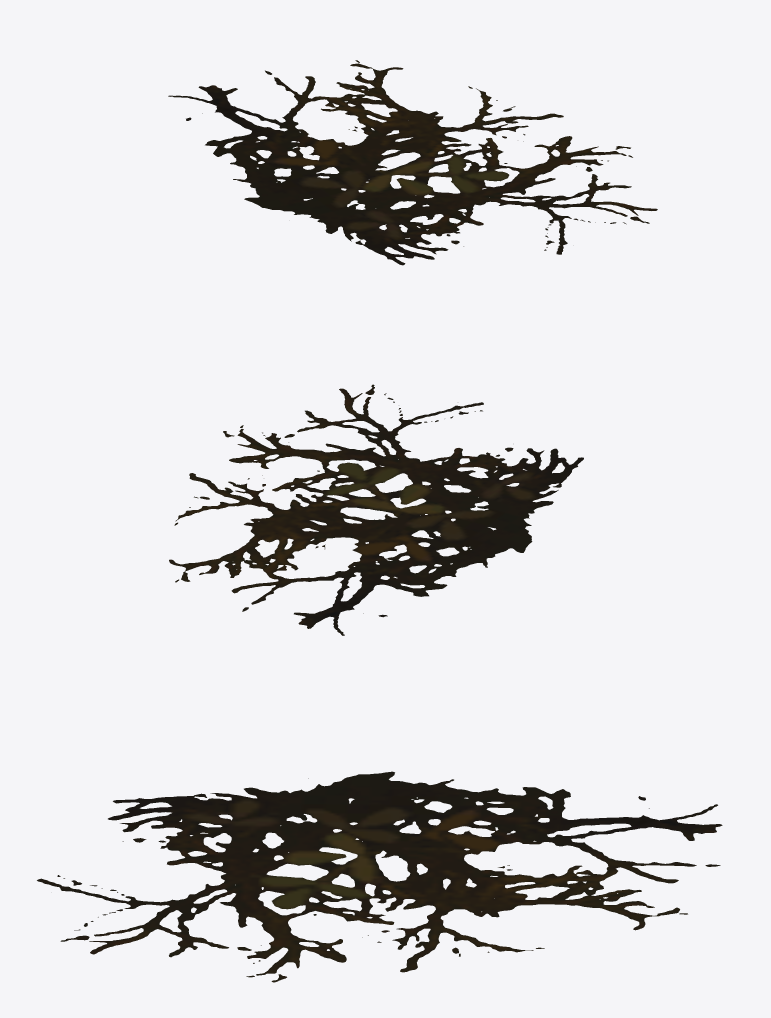
The model's file is hazz_grass_b_02.FBX.
3 views of the same model, one above another, from view 1: azimuth 30°, elevation 25°; view 2: azimuth 150°, elevation 25°; view 3: azimuth 270°, elevation 25° (orthographic). The views are drawn at different scales.
Parts seen in each view (by area): view 1: hazz_grass_b_02; view 2: hazz_grass_b_02; view 3: hazz_grass_b_02.
Boxes of the visible parts, bbox=[...] form: hazz_grass_b_02: bbox=[168, 60, 657, 265]; hazz_grass_b_02: bbox=[169, 384, 583, 635]; hazz_grass_b_02: bbox=[37, 771, 722, 982].
Bounding box in the file's own units: 232 × 2.75 × 249.
